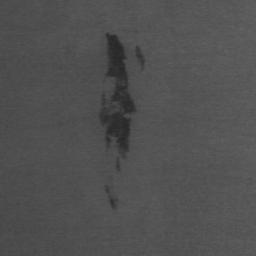Iron scale compression: (99, 34, 136, 152), (105, 185, 118, 211), (135, 46, 145, 72), (114, 157, 121, 174)
